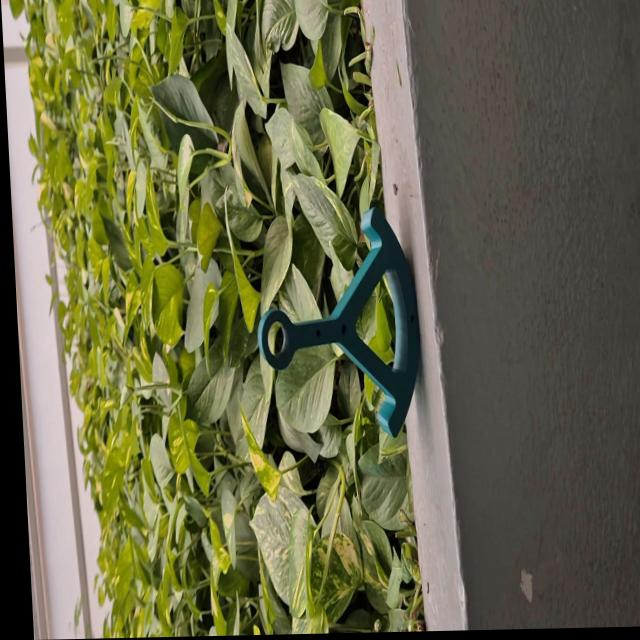haptic: (249, 204, 425, 444)
